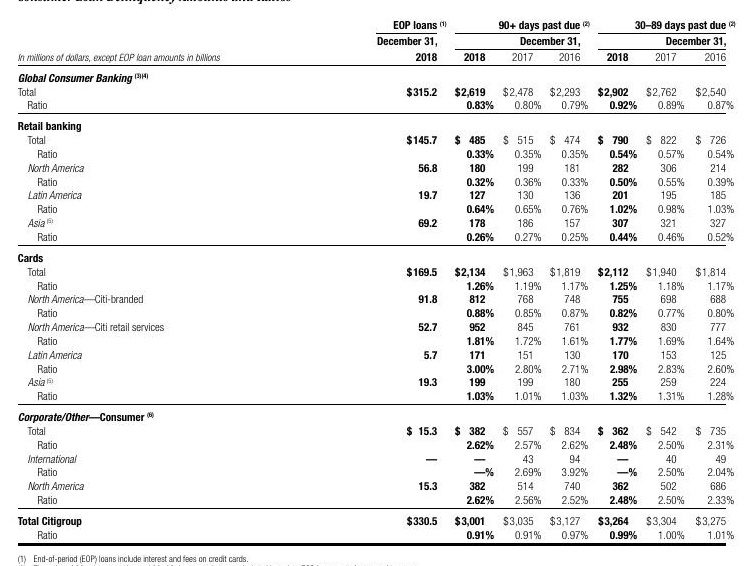table: (0, 0, 755, 566)
